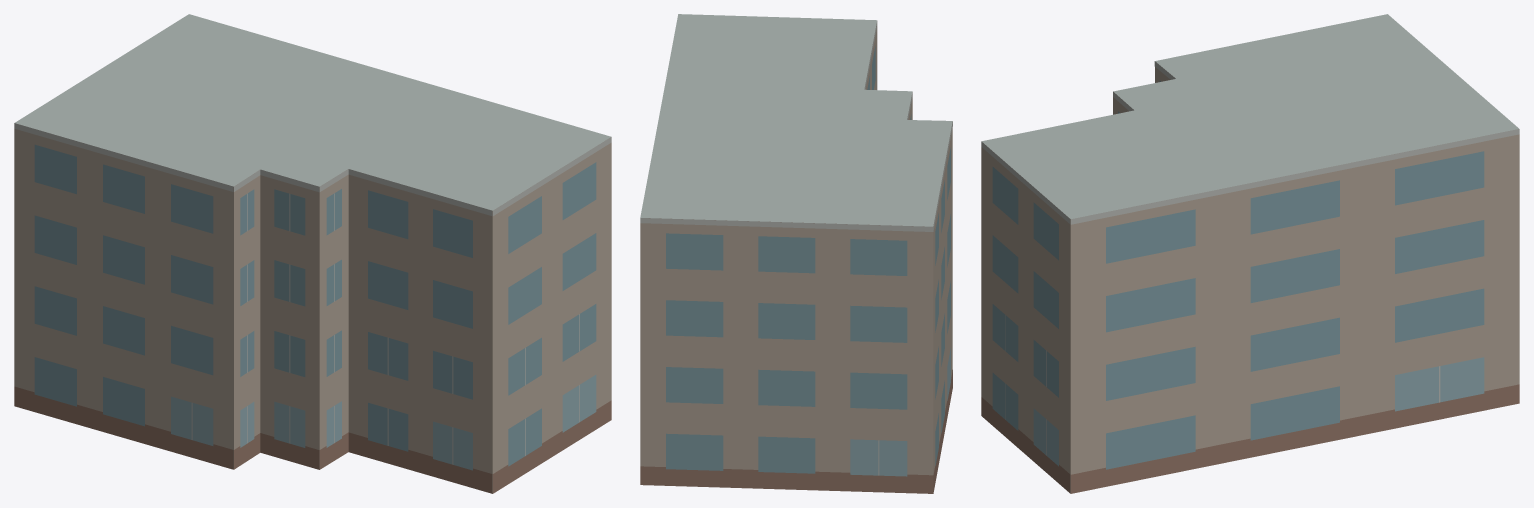
The model's file is survey-upis-33004412.glb.
3 views of the same model, side by side, from view 1: azimuth 30°, elevation 25°; view 2: azimuth 150°, elevation 25°; view 3: azimuth 270°, elevation 25° (orthographic). The views are drawn at different scales.
Visible parts, largest first — view 1: survey-upis-33004412.tmp; view 2: survey-upis-33004412.tmp; view 3: survey-upis-33004412.tmp.
Boxes of the visible parts, <box> form: survey-upis-33004412.tmp: <box>14,14,611,493</box>; survey-upis-33004412.tmp: <box>640,14,952,493</box>; survey-upis-33004412.tmp: <box>981,14,1519,493</box>.
Bounding box in the file's own units: 19.57 × 12.2 × 21.68.
